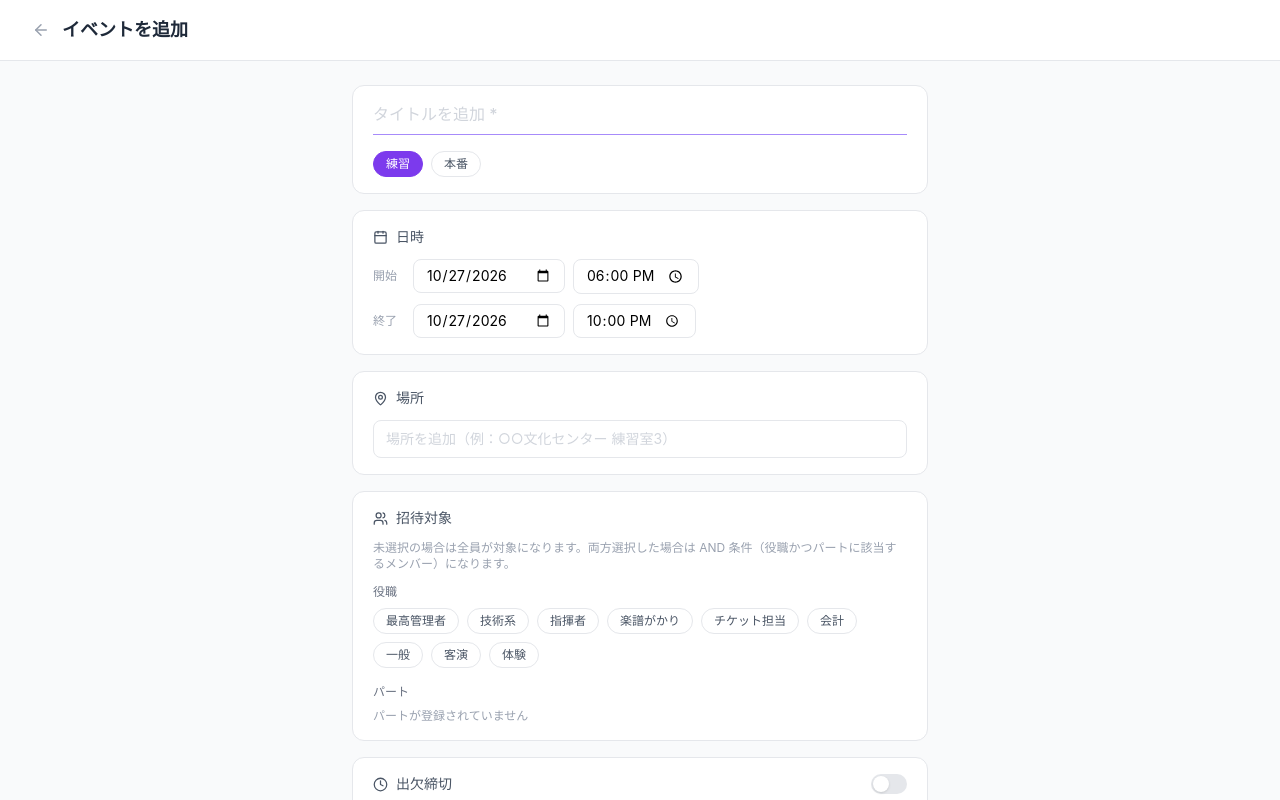
NewSchedulePage（開始日と終了日の連動） › 開始日を変更すると終了日も追従する
Expected: the button "練習" is shown, [373,151,423,177]
Type "2026-08-01" into the date field named "開始日" at (489, 276), box [413,259,565,293]
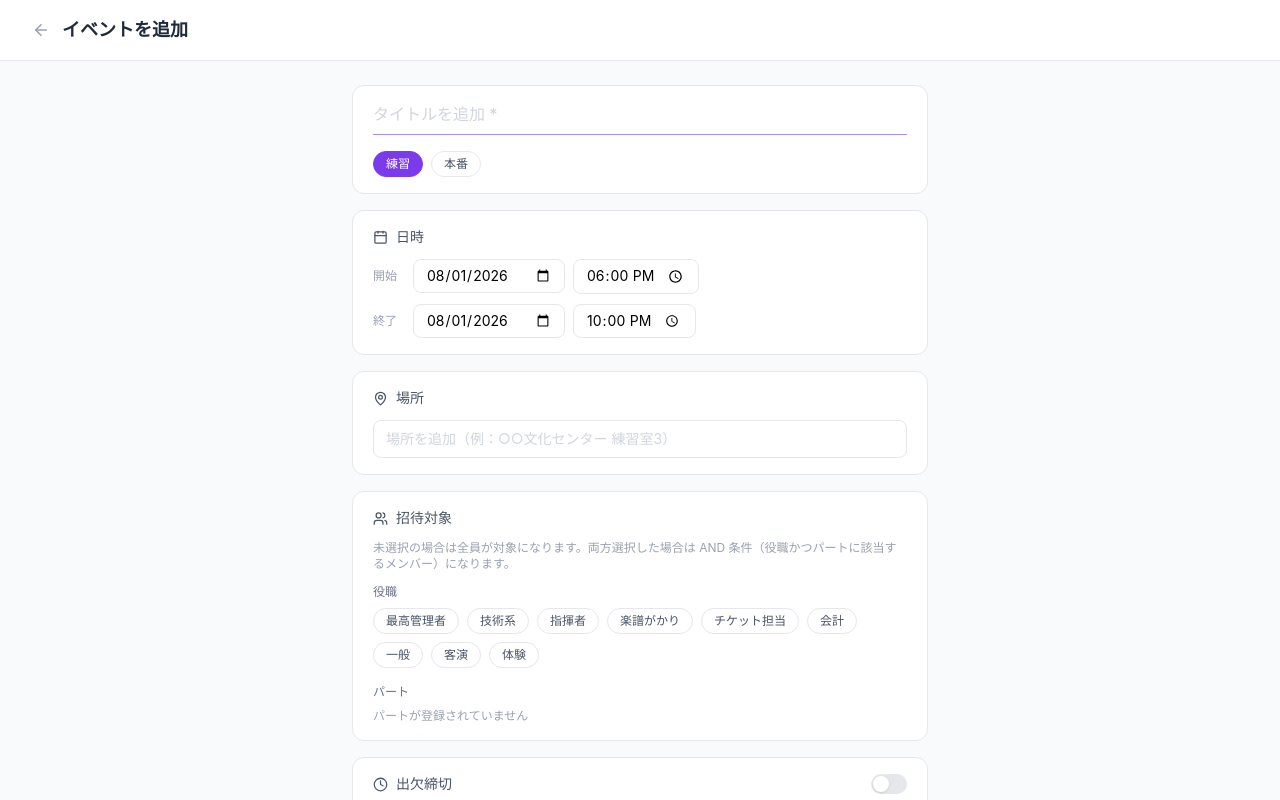
Now the date field named "終了日" holds "2026-08-01", box [413,304,565,338]
